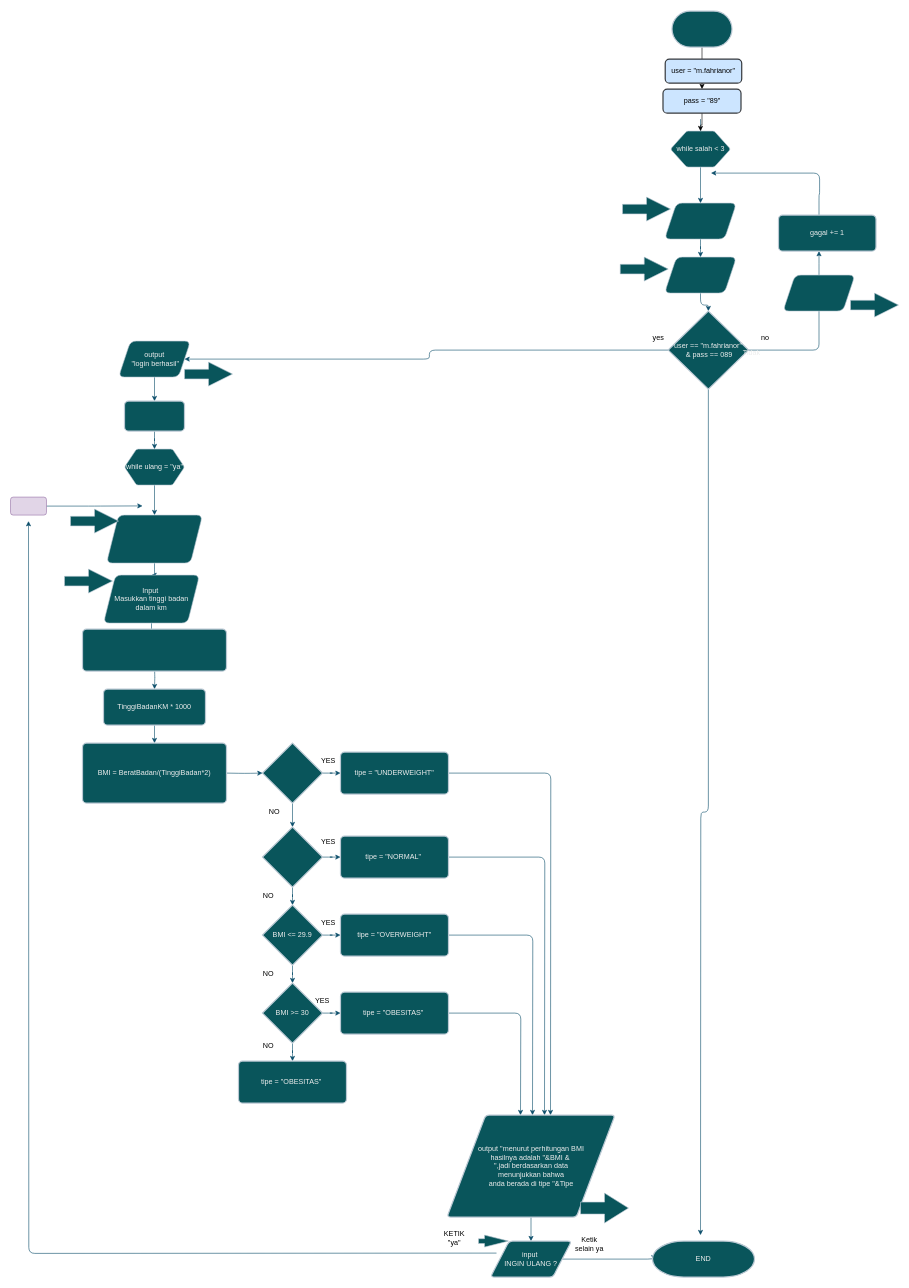
This 909x1288 diagram has some shape labels left out. Here are the shapes that lost their labels. From the top down, the centre of each, then its label:
the point at 701,28: start
the point at 700,220: Input Masukkan Username
the point at 700,274: Input Masukkan Pasword
the point at 818,292: output "anda gagal sebanyak {gagal}
the point at 154,415: ULANG = "YA"
the point at 28,505: LOOP
the point at 154,538: Input Masukkan berat badan dalam mg
the point at 154,649: BeratBadanMG / 1000000
the point at 292,772: BMI <= 18.5
the point at 292,856: BMI <= 24.9
